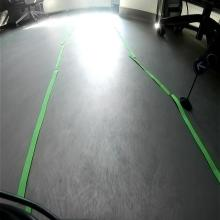left: (192, 56, 209, 76)
